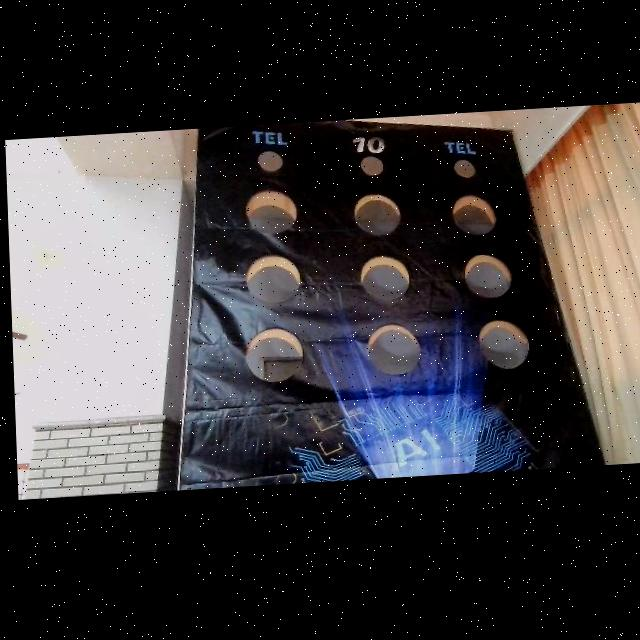hole: (246, 326, 304, 382), (366, 322, 421, 378), (246, 254, 302, 305), (480, 319, 531, 371), (360, 255, 410, 303), (247, 188, 297, 235), (464, 253, 510, 300), (354, 193, 401, 238), (451, 194, 497, 235), (257, 150, 283, 172), (361, 156, 384, 177), (454, 159, 475, 178)
